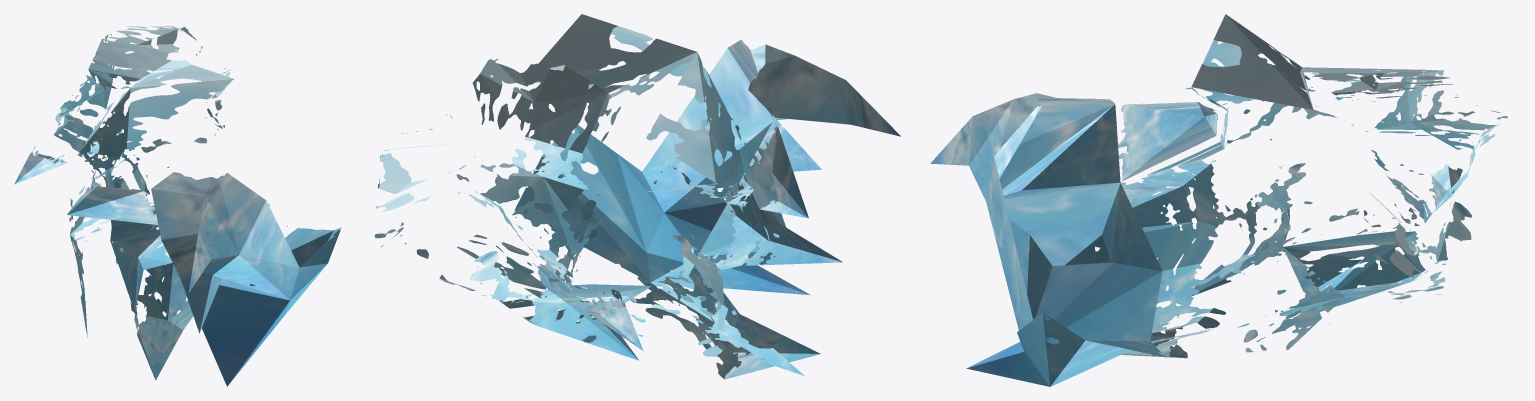
The model's file is wolverine_ltfoot_ice.glb.
The picture shows the model from 3 angles, left to right: view 1: azimuth 30°, elevation 25°; view 2: azimuth 150°, elevation 25°; view 3: azimuth 270°, elevation 25°; orthographic projection. The views are drawn at different scales.
Visible parts, largest first — view 1: wolverine_ltfoot_ice_0; view 2: wolverine_ltfoot_ice_0; view 3: wolverine_ltfoot_ice_0.
Boxes of the visible parts, x1,y1,x2,y2 form: wolverine_ltfoot_ice_0: (14, 16, 341, 386); wolverine_ltfoot_ice_0: (374, 14, 900, 379); wolverine_ltfoot_ice_0: (930, 14, 1507, 386).
Size of the model in its own units: 7.72 by 7.94 by 11.56.
1 material, 1 textured.
